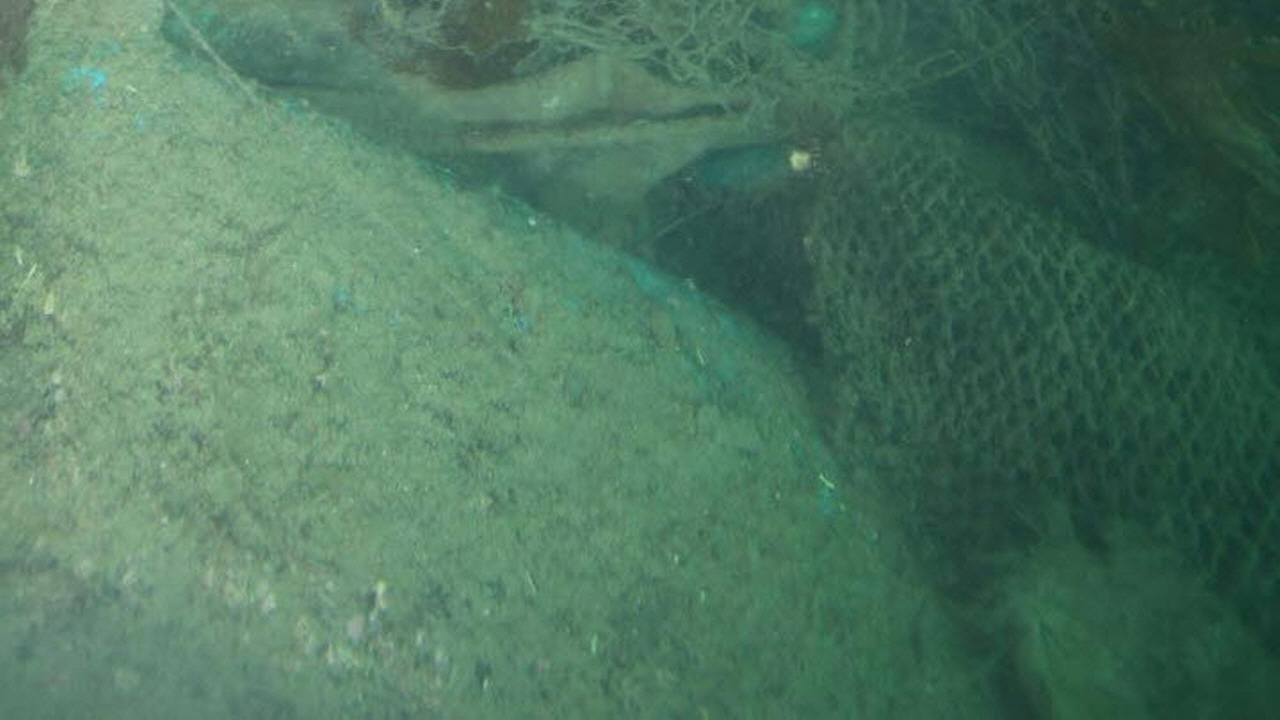fish net: (609, 0, 1280, 615)
